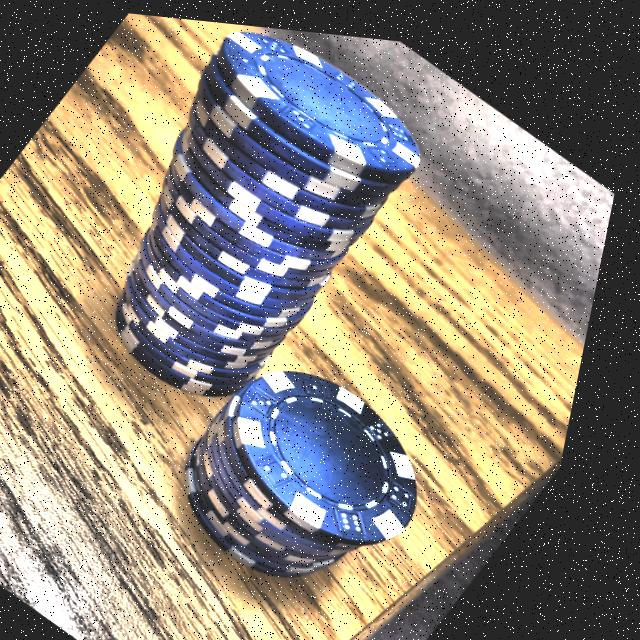Chip: (0, 4, 500, 469), (116, 286, 514, 640)
